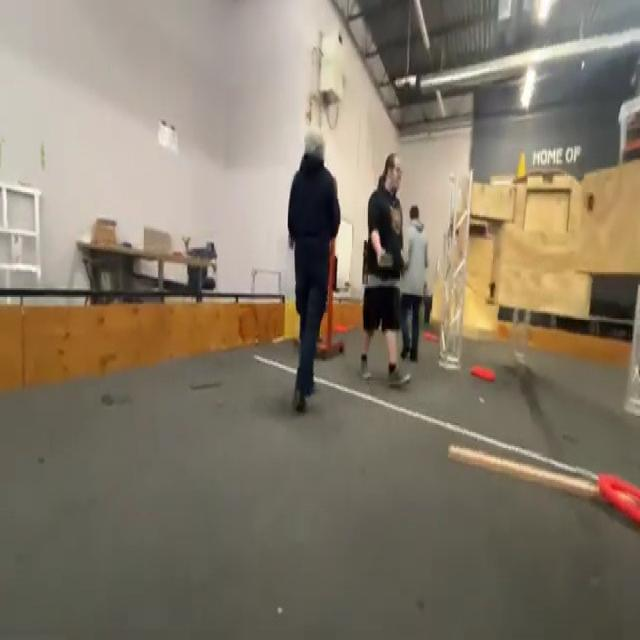note: (597, 467, 640, 527), (469, 362, 497, 385)
